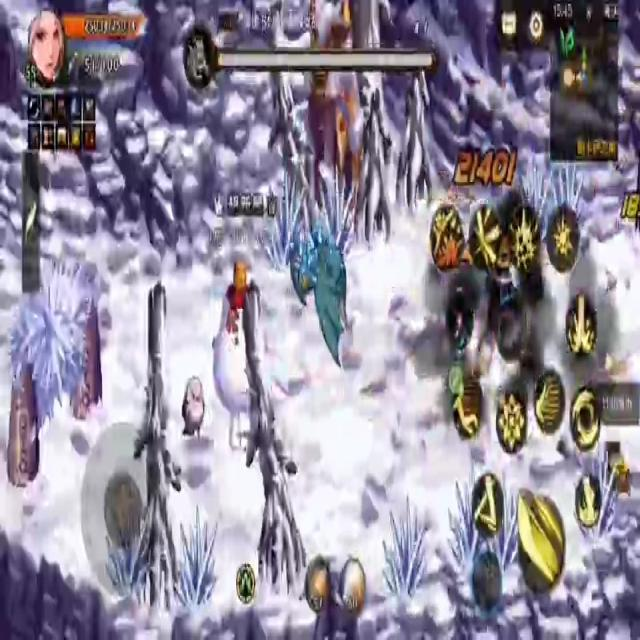player: (220, 254, 260, 446)
